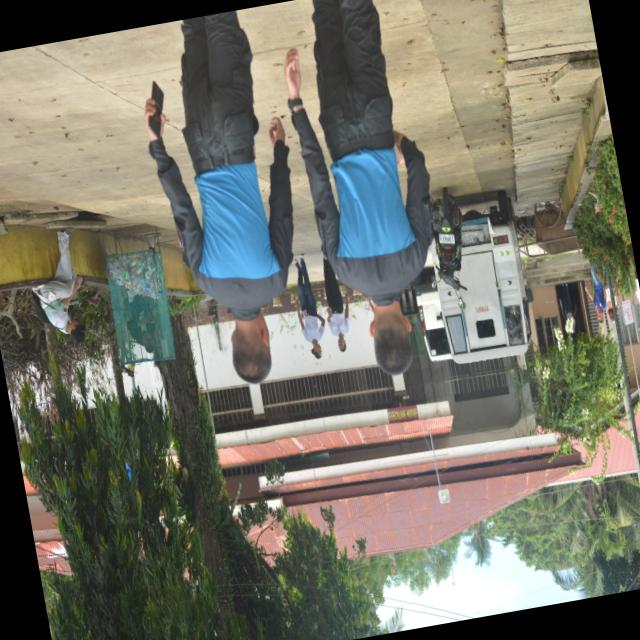person: (145, 11, 293, 383), (284, 0, 431, 374), (33, 226, 86, 342), (294, 253, 325, 358), (323, 258, 350, 351), (585, 265, 606, 322), (562, 282, 576, 332)
